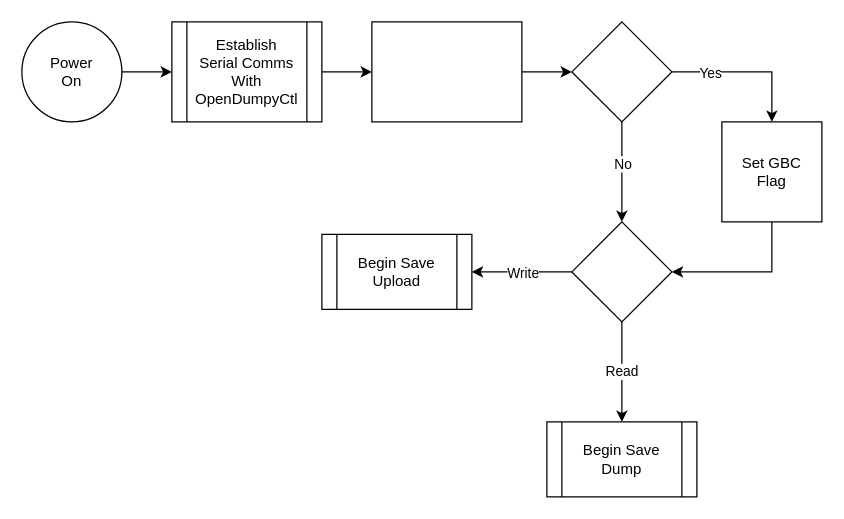
This 844x519 diagram has some shape labels left out. Here are the shapes that lost their labels. From the top down, the box of each, then its label:
(371, 21, 522, 122): Read Cartridge Header
(571, 21, 672, 122): Is GBC Cart?
(571, 221, 672, 322): Read or Write?
